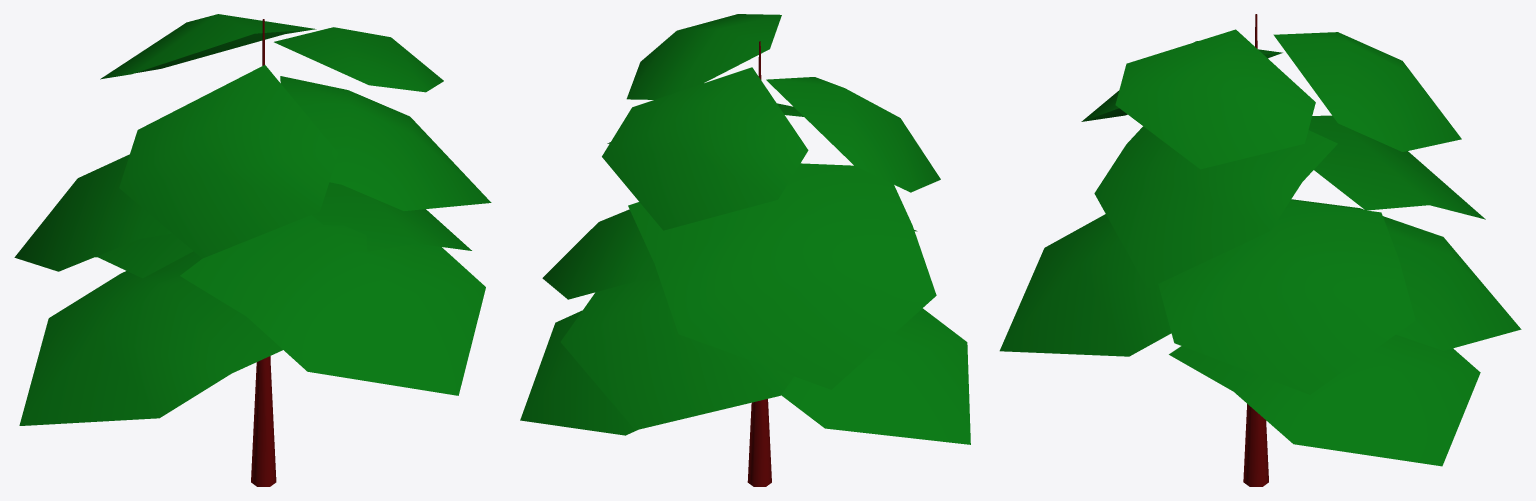
The model's file is Vegetation-03.fbx.
The picture shows the model from 3 angles, left to right: view 1: azimuth 30°, elevation 25°; view 2: azimuth 150°, elevation 25°; view 3: azimuth 270°, elevation 25°; orthographic projection. The views are drawn at different scales.
Parts seen in each view (by area): view 1: Plane; view 2: Plane; view 3: Plane.
Part boxes in pixels (x1=…): Plane: x1=14, y1=14, x2=491, y2=486; Plane: x1=520, y1=14, x2=970, y2=486; Plane: x1=999, y1=14, x2=1521, y2=486.
Bounding box in the file's own units: 1.75 × 1.78 × 1.8.
